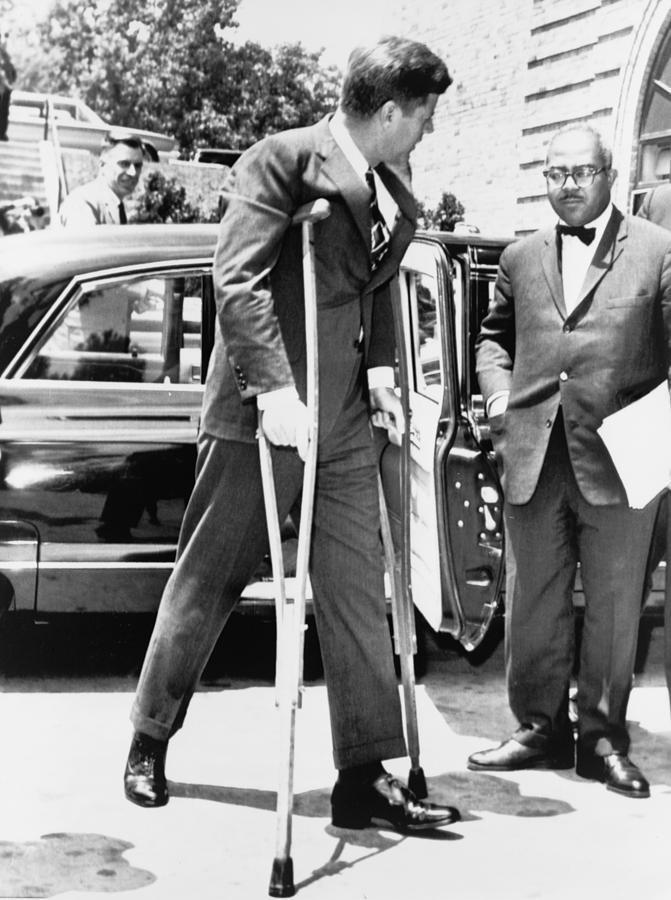crutches: (124, 38, 461, 895)
